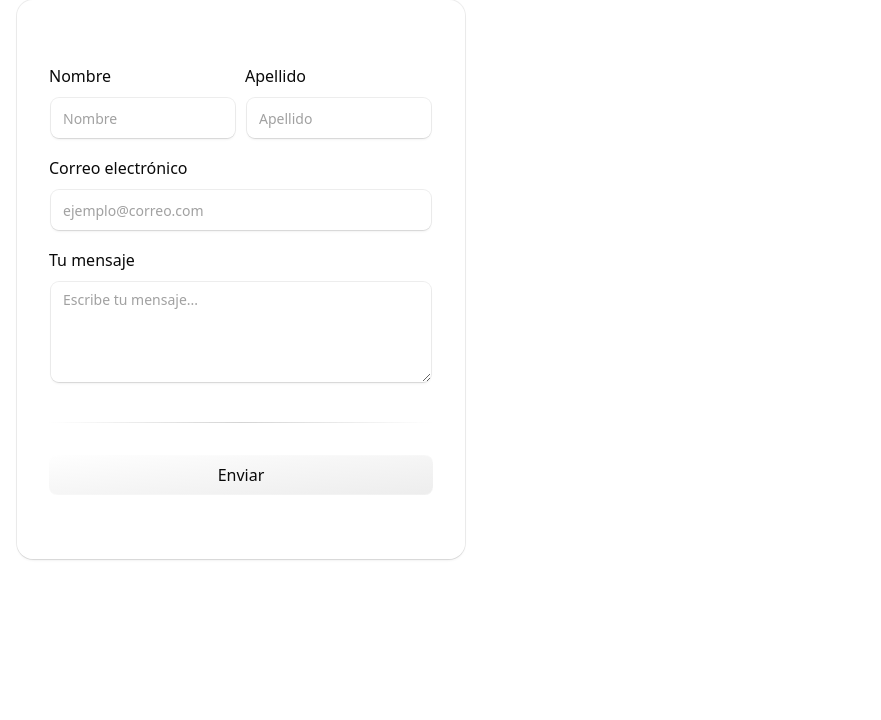
FormContact › shows error for invalid email
This screenshot has width=881, height=720.
Type "invalid-email" into the field labelled "Correo electrónico" at (241, 210), box [51,190,431,230]
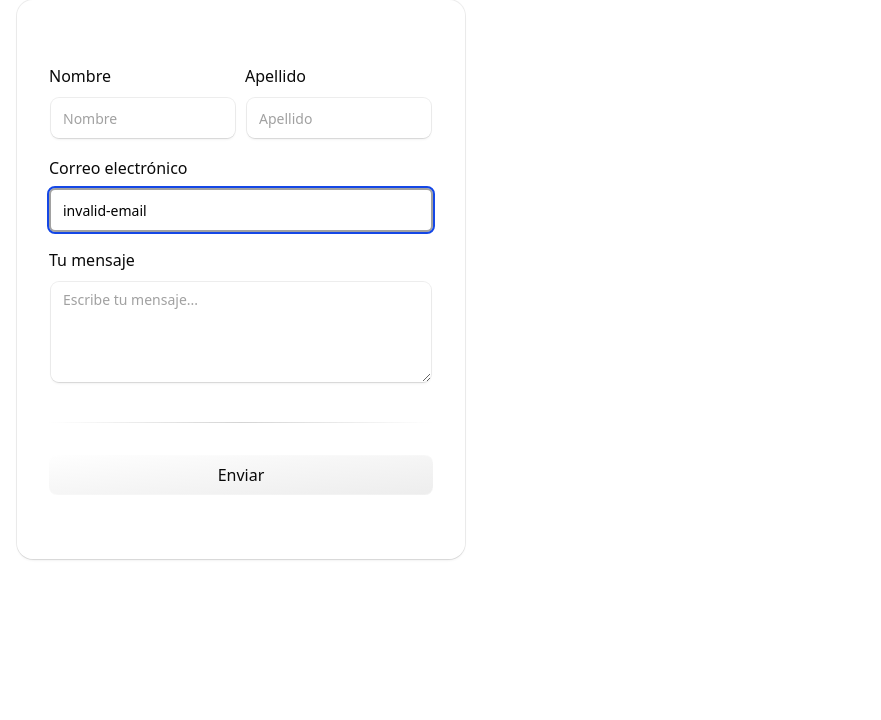
Submit the form, box [49,64,433,495]
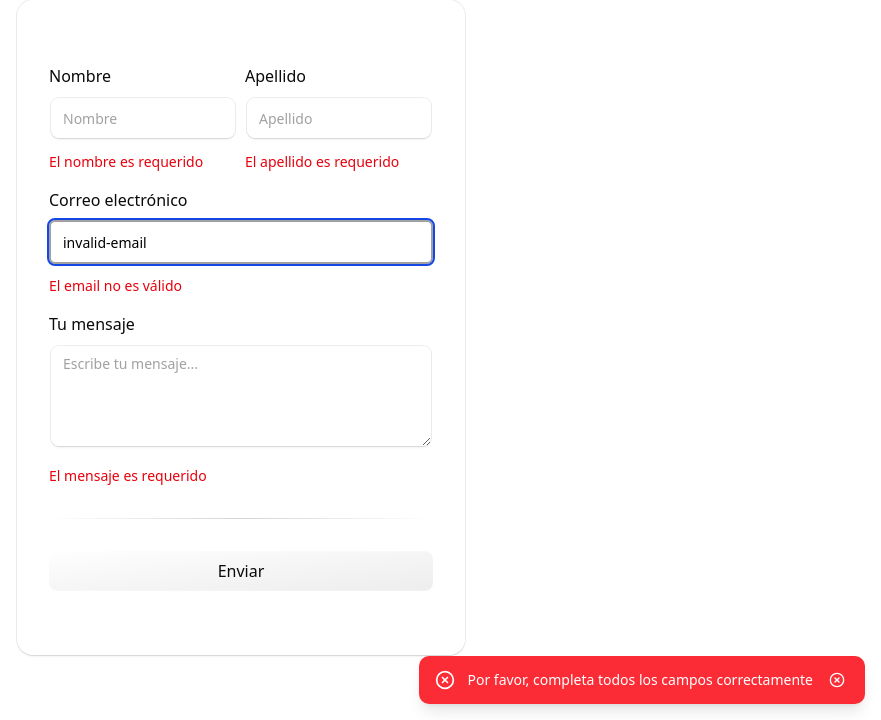
Expected: the text "El email no es válido" is shown, [49,276,182,295]
